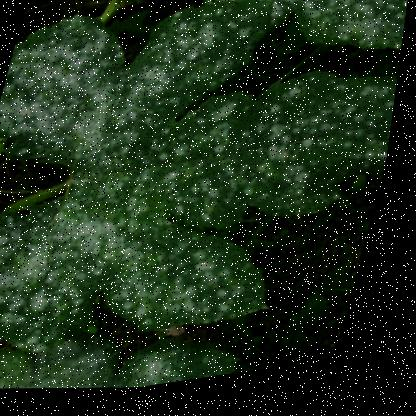PowderyMildew: (73, 74, 377, 246), (0, 197, 128, 321), (114, 234, 244, 335), (13, 56, 157, 145), (214, 0, 337, 17)
